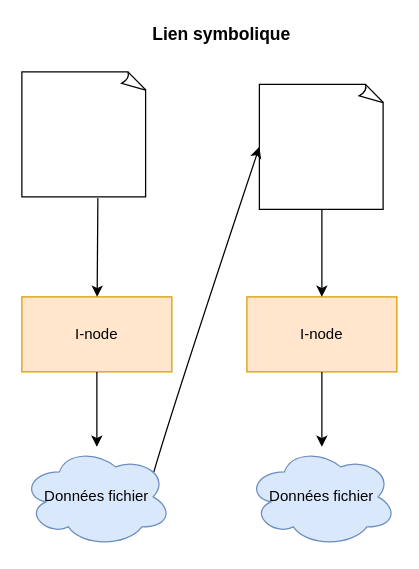
Image size: 419x569. Some labels were removed from this diagram. The shapes that lost their labels are listed below. From the top down, each one's centre as x and y in pixels, then its label:
At point (84, 134): "Fichier - lien symbolique".
At point (321, 146): "Fichier source".
